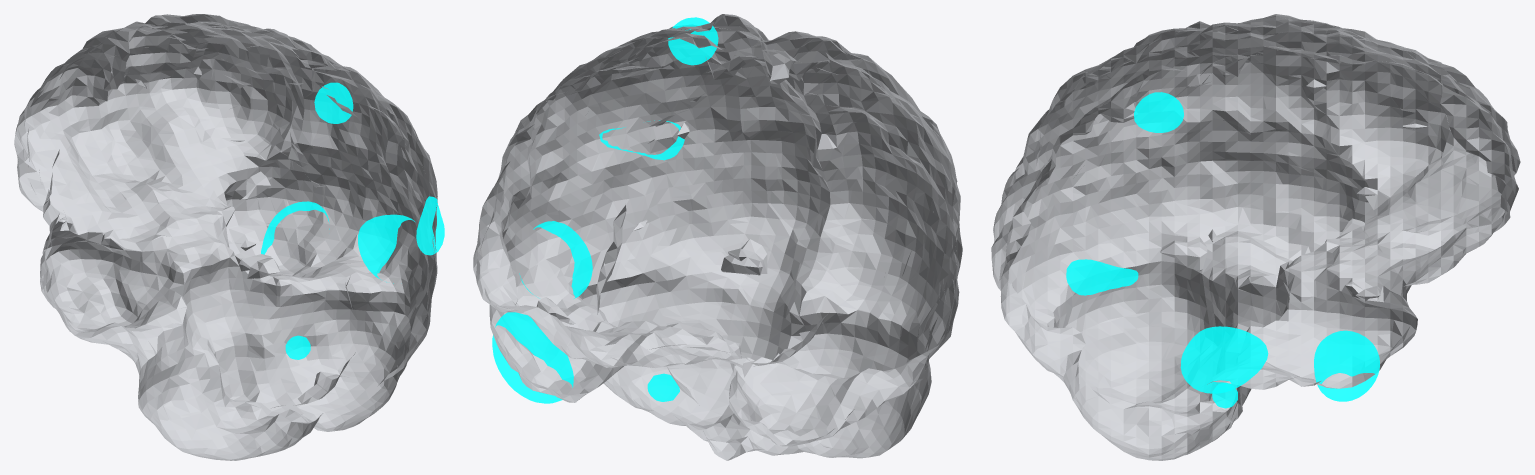
The model's file is sub-PID19_prediction_ar_model.glb.
3 renders of one model, left to right at view 1: azimuth 30°, elevation 25°; view 2: azimuth 150°, elevation 25°; view 3: azimuth 270°, elevation 25°, orthographic. The views are drawn at different scales.
Visible parts, largest first — view 1: Brain_Cortex, Predicted_Hotspot; view 2: Brain_Cortex, Predicted_Hotspot; view 3: Brain_Cortex, Predicted_Hotspot.
Part boxes in pixels (x1=…): Brain_Cortex: x1=14, y1=14, x2=437, y2=460; Predicted_Hotspot: x1=261, y1=82, x2=444, y2=359; Brain_Cortex: x1=473, y1=14, x2=962, y2=460; Predicted_Hotspot: x1=492, y1=17, x2=718, y2=403; Brain_Cortex: x1=991, y1=14, x2=1520, y2=460; Predicted_Hotspot: x1=1066, y1=92, x2=1379, y2=408.
Size of the model in its own units: 0.134 by 0.1345 by 0.1668.
